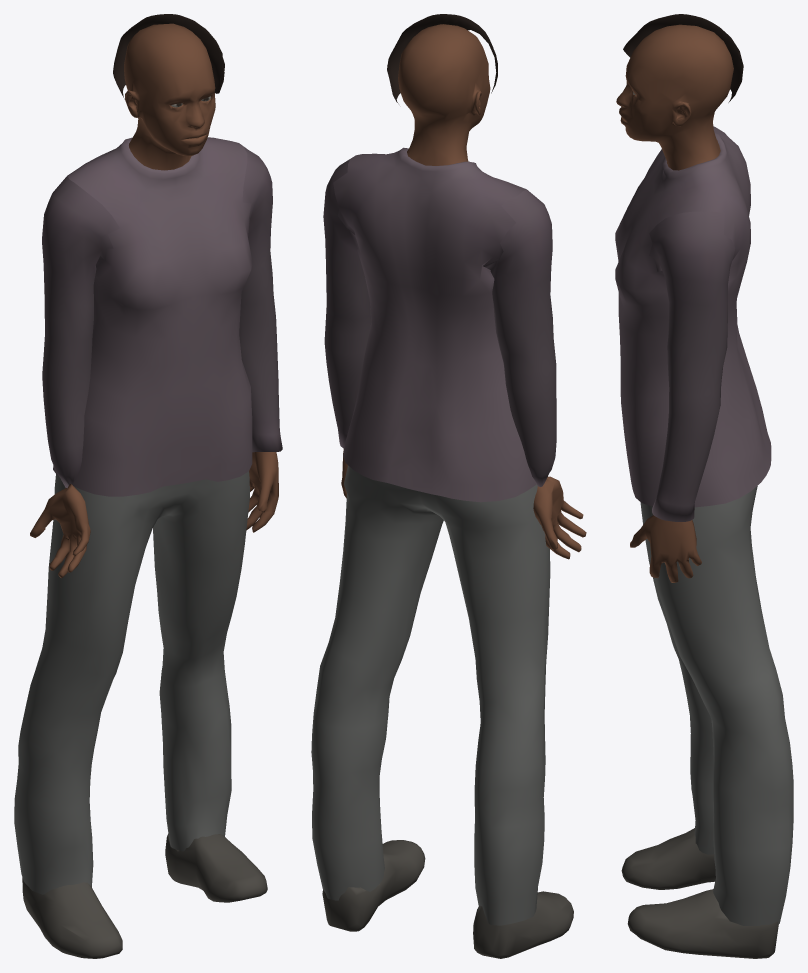
Rendered from participant-20-middle.glb.
3 renders of one model, left to right at view 1: azimuth 30°, elevation 25°; view 2: azimuth 150°, elevation 25°; view 3: azimuth 270°, elevation 25°, orthographic.
Parts seen in each view (by area): view 1: Participant anatomy and ordinary clothes; view 2: Participant anatomy and ordinary clothes; view 3: Participant anatomy and ordinary clothes.
Part boxes in pixels (<box>): Participant anatomy and ordinary clothes: <box>14,14,282,958</box>; Participant anatomy and ordinary clothes: <box>311,14,586,958</box>; Participant anatomy and ordinary clothes: <box>615,14,793,958</box>.
Bounding box in the file's own units: 0.465 × 1.69 × 0.3016.
